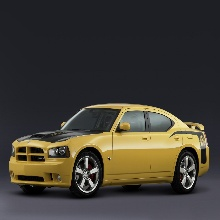no damage: (10, 101, 211, 196)
